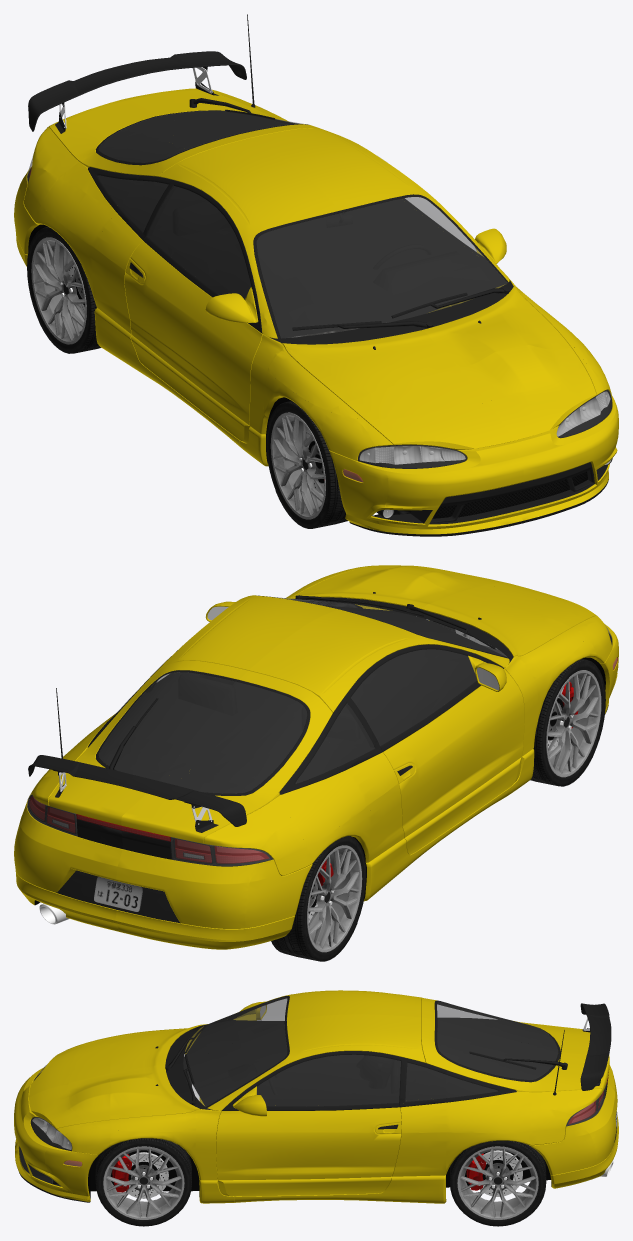
Rendered from azura.glb.
3 views of the same model, one above another, from view 1: azimuth 30°, elevation 25°; view 2: azimuth 150°, elevation 25°; view 3: azimuth 270°, elevation 25° (orthographic). The views are drawn at different scales.
Parts seen in each view (by area): view 1: roof, door.R, glass.front, nose.R, nose.L, glass.rear, fender.R, quarter.R, deck, wheel.front.R, wheel.rear.R, tail.R (+1 smaller); view 2: roof, door.R, tail.R, glass.rear, tail.L, deck, quarter.R, fender.R, nose.R, wheel.front.R, wheel.rear.R, glass.front (+1 smaller); view 3: roof, door.L, nose.L, glass.front, glass.rear, tail.L, fender.L, quarter.L, deck, wheel.front.L, wheel.rear.L, nose.R (+1 smaller).
Part boxes in pixels (left/top/right/bottom): roof: left=27, top=14, right=586, bottom=419; door.R: left=48, top=126, right=331, bottom=466; glass.front: left=257, top=197, right=506, bottom=338; nose.R: left=320, top=402, right=523, bottom=536; nose.L: left=487, top=347, right=618, bottom=523; glass.rear: left=99, top=98, right=305, bottom=162; fender.R: left=264, top=372, right=345, bottom=528; quarter.R: left=33, top=205, right=98, bottom=353; deck: left=41, top=110, right=294, bottom=248; wheel.front.R: left=273, top=416, right=324, bottom=515; wheel.rear.R: left=34, top=241, right=85, bottom=340; tail.R: left=14, top=66, right=134, bottom=314; roof: left=27, top=566, right=585, bottom=866; door.R: left=203, top=633, right=560, bottom=901; tail.R: left=115, top=775, right=312, bottom=955; glass.rear: left=99, top=672, right=306, bottom=793; tail.L: left=14, top=755, right=122, bottom=931; deck: left=48, top=688, right=368, bottom=846; quarter.R: left=276, top=805, right=371, bottom=961; fender.R: left=532, top=637, right=596, bottom=786; nose.R: left=487, top=582, right=618, bottom=746; wheel.front.R: left=547, top=673, right=598, bottom=773; wheel.rear.R: left=308, top=849, right=359, bottom=948; glass.front: left=274, top=596, right=508, bottom=657; roof: left=68, top=990, right=610, bottom=1132; door.L: left=129, top=1050, right=602, bottom=1203; nose.L: left=14, top=1083, right=110, bottom=1213; glass.front: left=183, top=997, right=286, bottom=1106; glass.rear: left=437, top=1001, right=558, bottom=1079; tail.L: left=531, top=1033, right=618, bottom=1212; fender.L: left=110, top=1129, right=199, bottom=1226; quarter.L: left=446, top=1131, right=540, bottom=1226; deck: left=446, top=1005, right=531, bottom=1132; wheel.front.L: left=106, top=1149, right=181, bottom=1217; wheel.rear.L: left=460, top=1149, right=535, bottom=1217; nose.R: left=14, top=1037, right=110, bottom=1151.
Size of the model in its own units: 1.83 by 1.46 by 4.4.
Materials: 10 (3 with a texture image).
